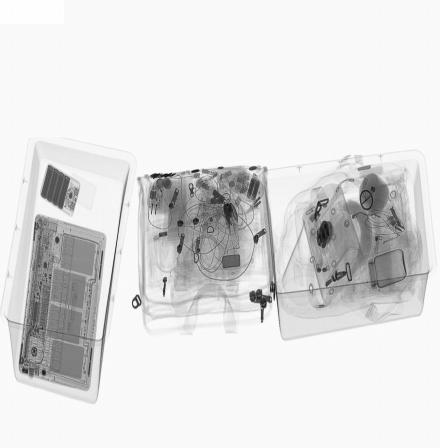Powerbank: (39, 163, 81, 218)
